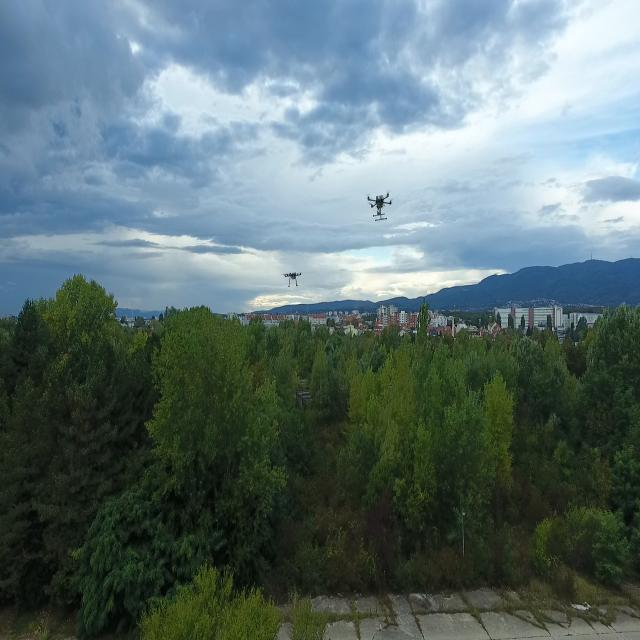UAV: (364, 186, 398, 222), (272, 264, 313, 288)
